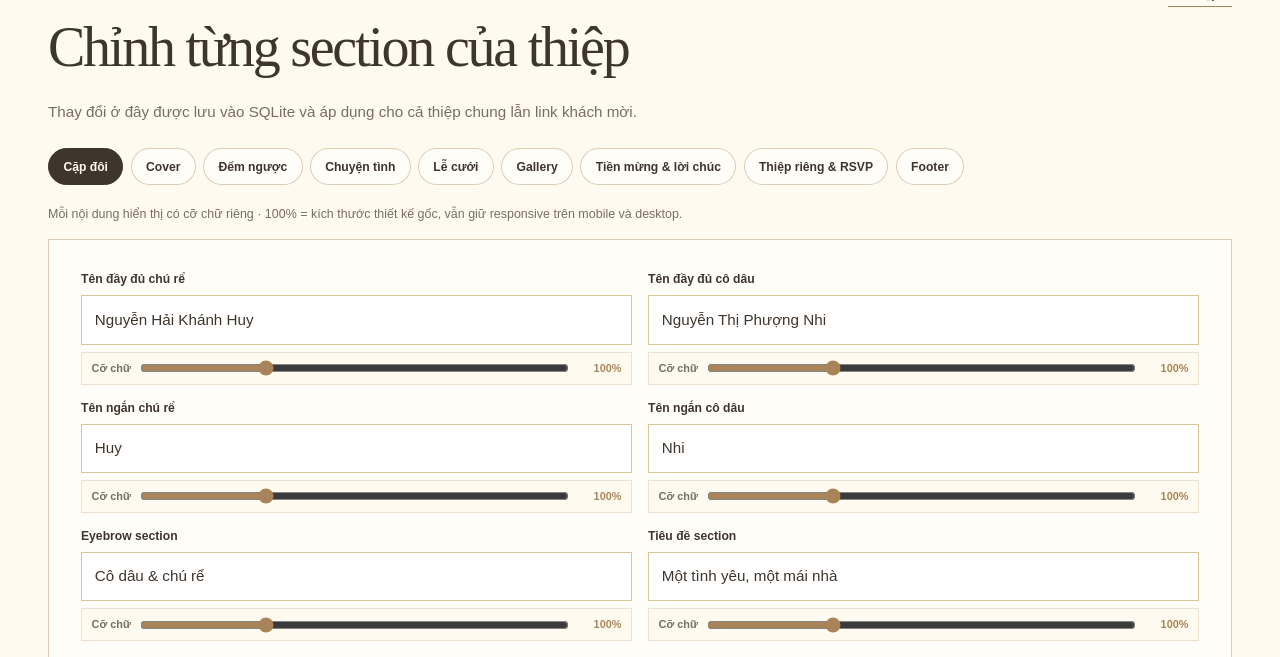
Test: AdminContentEditor font size controls › adds size controls only to display copy, not technical event fields
This screenshot has width=1280, height=657.
Click the tab "Lễ cưới": (456, 167) [418,148,494,185]
(page scrolled)
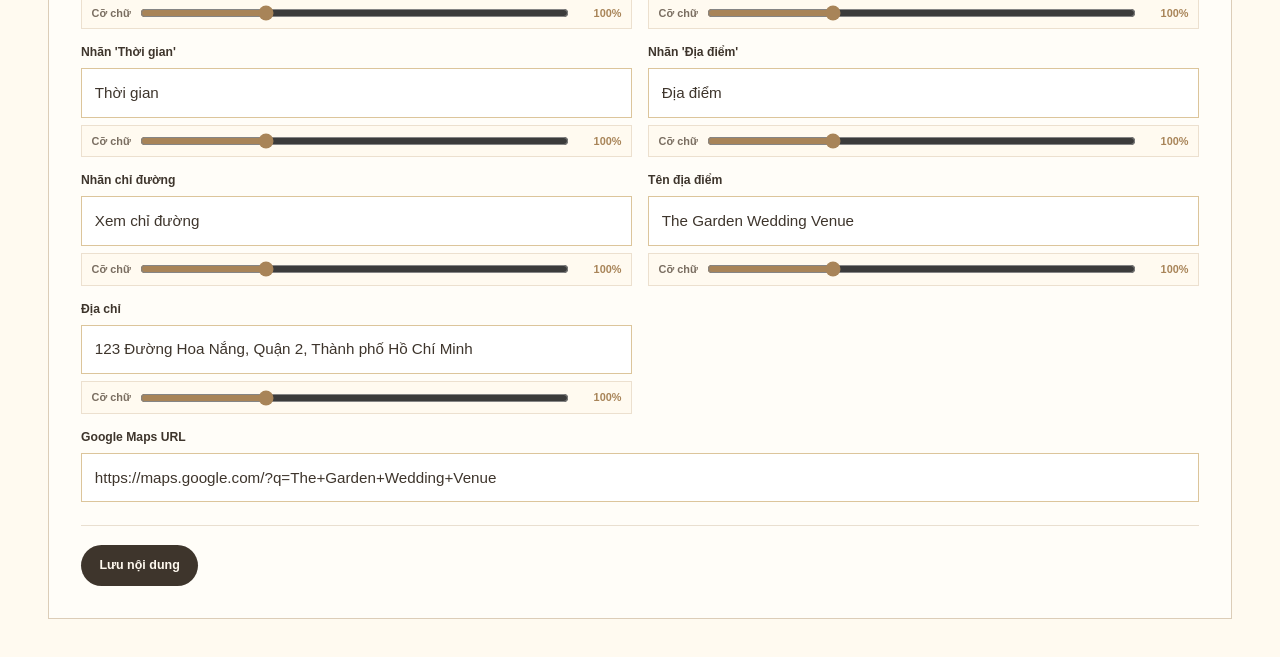
expect the number of sliders is 9: met
expect the text "Google Maps URL" is shown: met, box [81,430,186,444]
